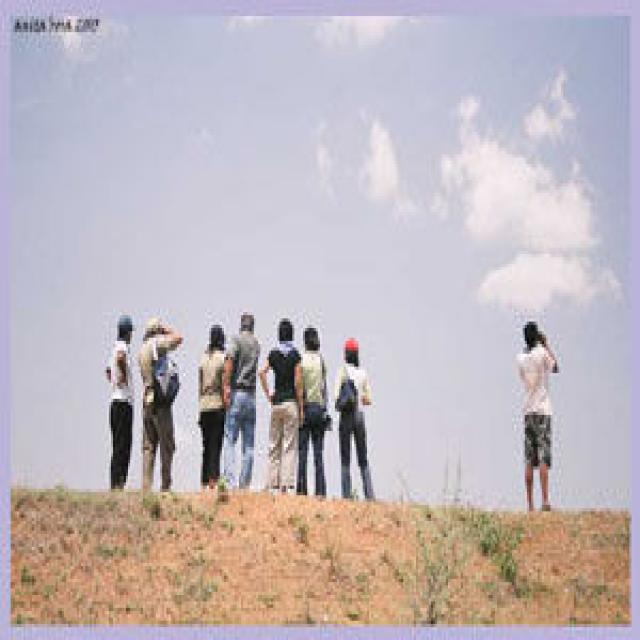person: (515, 320, 560, 513), (259, 316, 308, 493), (138, 316, 185, 490), (221, 310, 261, 493), (334, 336, 376, 503), (293, 323, 332, 496), (195, 320, 232, 500), (104, 310, 138, 490)
